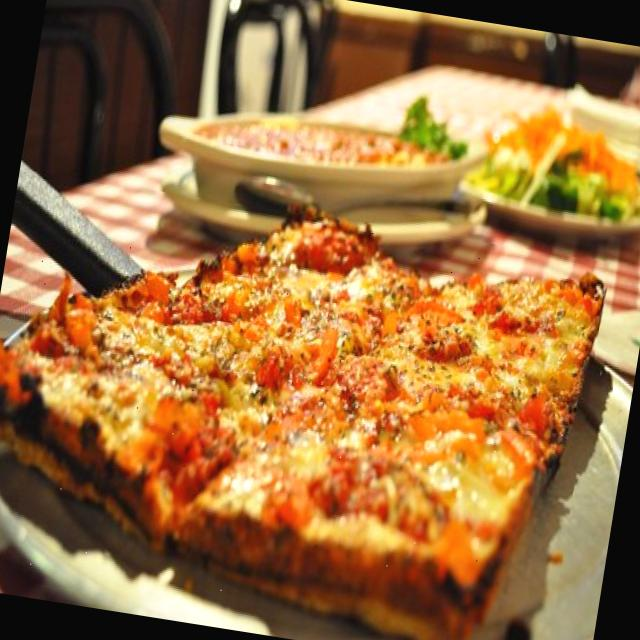pizza: (0, 216, 603, 640)
